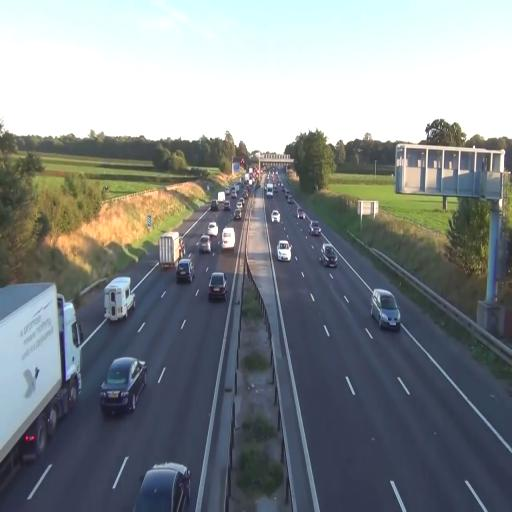vehicle: (0, 282, 83, 490), (0, 284, 83, 490), (133, 461, 191, 512), (99, 356, 147, 416), (134, 463, 190, 511), (100, 357, 146, 415), (370, 287, 402, 332), (104, 276, 135, 322), (104, 277, 135, 320), (371, 289, 401, 329), (158, 230, 182, 274), (159, 232, 185, 268), (208, 272, 227, 302), (209, 273, 227, 301), (176, 257, 193, 284), (176, 259, 194, 283), (321, 244, 338, 268), (276, 239, 293, 262), (320, 244, 337, 267), (222, 226, 235, 252), (221, 228, 235, 251), (277, 241, 291, 261), (198, 236, 211, 256), (198, 235, 212, 253), (310, 221, 321, 236), (207, 222, 218, 236), (311, 222, 321, 236), (272, 209, 280, 223), (272, 210, 280, 223), (266, 183, 273, 197), (210, 200, 218, 211), (218, 191, 225, 203), (297, 208, 304, 219), (234, 209, 241, 220), (236, 201, 243, 210), (224, 201, 230, 211), (231, 190, 237, 199), (288, 195, 294, 204), (239, 197, 244, 206), (245, 173, 250, 181), (224, 188, 229, 196), (244, 190, 248, 199), (285, 190, 289, 199), (235, 185, 239, 193), (246, 186, 250, 194), (249, 178, 253, 185), (274, 187, 278, 193), (282, 185, 285, 191)
